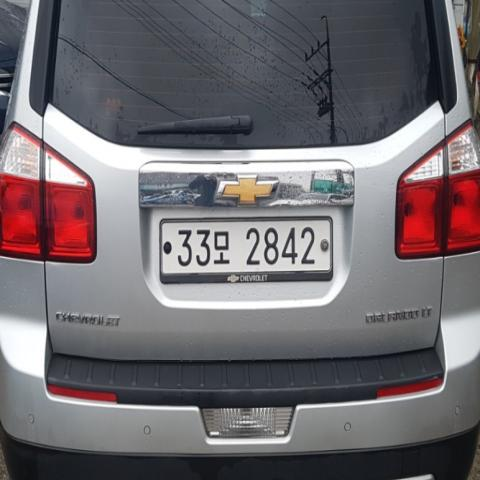LP: (150, 208, 343, 293)
